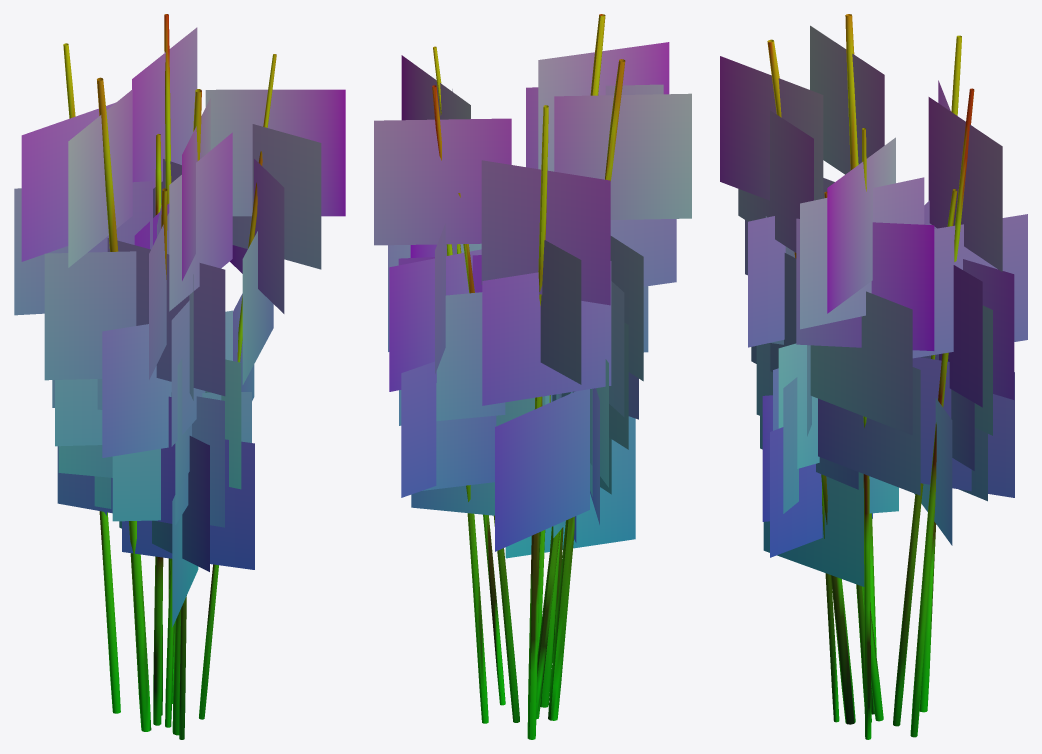
File: bamboo_clump_a.glb
3 views of the same model, side by side, from view 1: azimuth 30°, elevation 25°; view 2: azimuth 150°, elevation 25°; view 3: azimuth 270°, elevation 25° (orthographic).
Parts seen in each view (by area): view 1: bamboo_clump_a_LOD0; view 2: bamboo_clump_a_LOD0; view 3: bamboo_clump_a_LOD0.
Boxes of the visible parts, box(x1,y1,x2,y2) form: bamboo_clump_a_LOD0: box(14, 14, 345, 739); bamboo_clump_a_LOD0: box(374, 14, 691, 739); bamboo_clump_a_LOD0: box(720, 14, 1027, 739).
Size of what is drawn, in the model's own units: 3.07 by 6.95 by 2.88.
